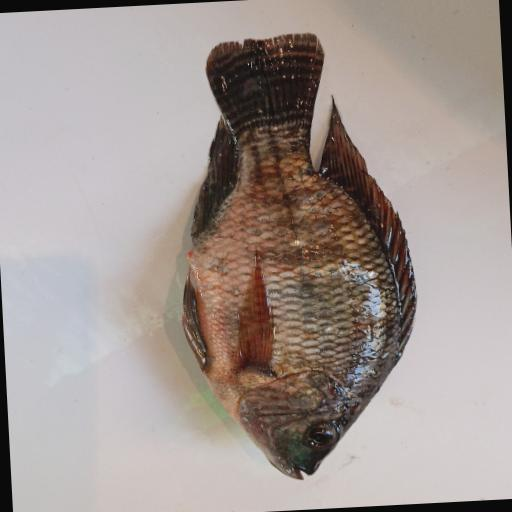Tilapia: (166, 28, 426, 487)
